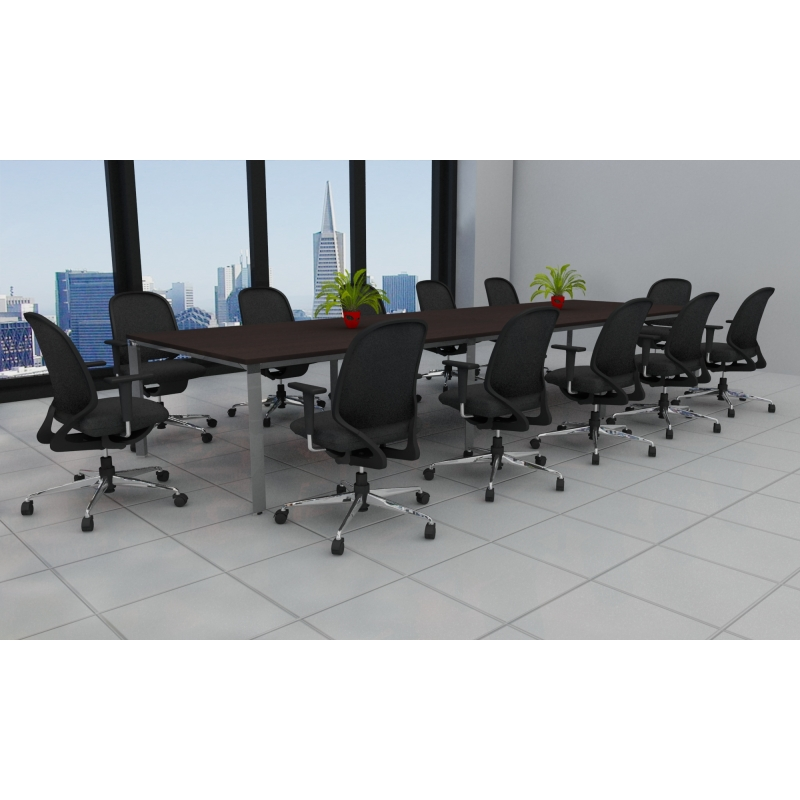conference_table: (126, 299, 691, 516)
